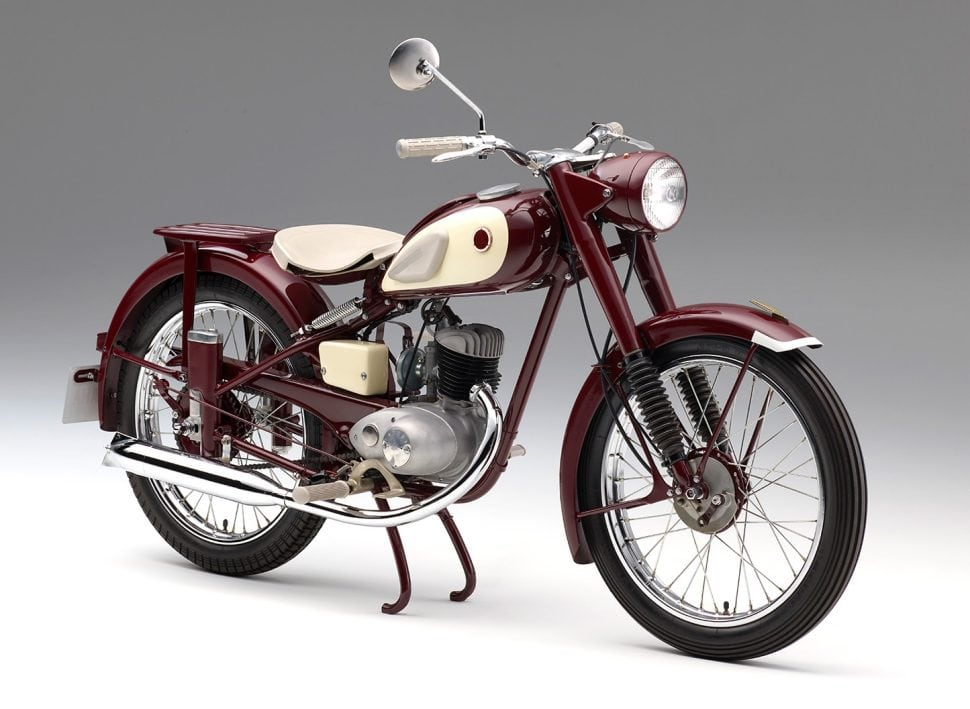motorcycle: (83, 131, 866, 660)
